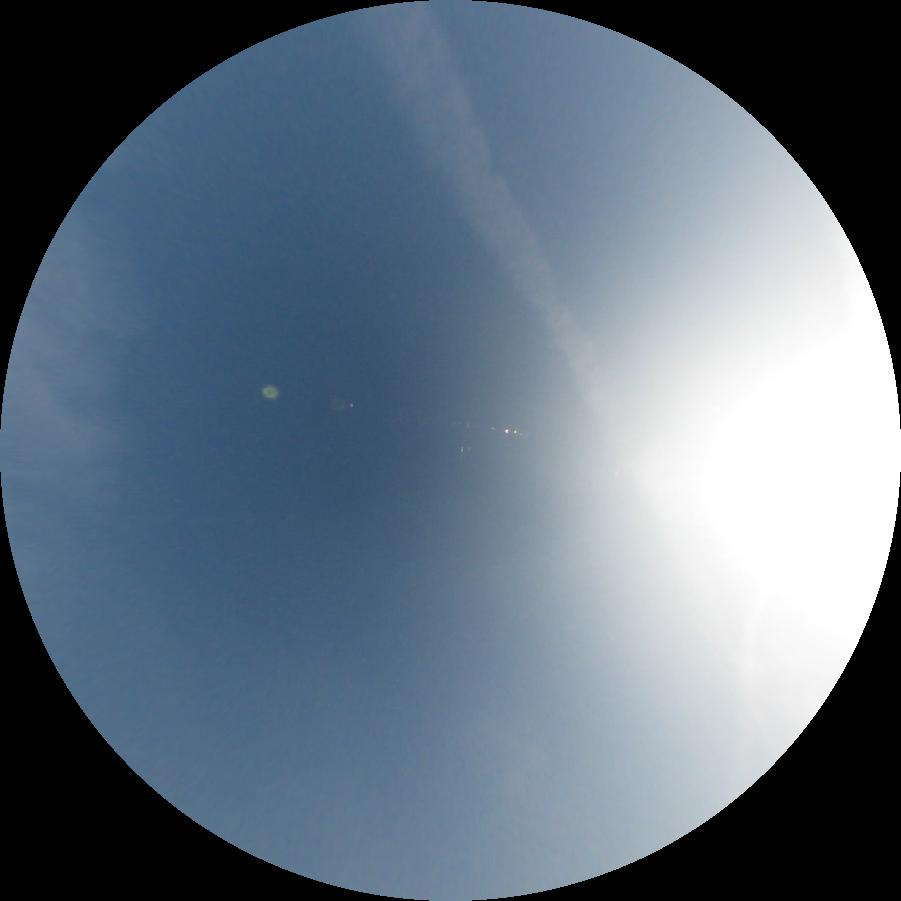contrail veryold: (343, 4, 625, 437)
sun: (711, 352, 900, 574)
